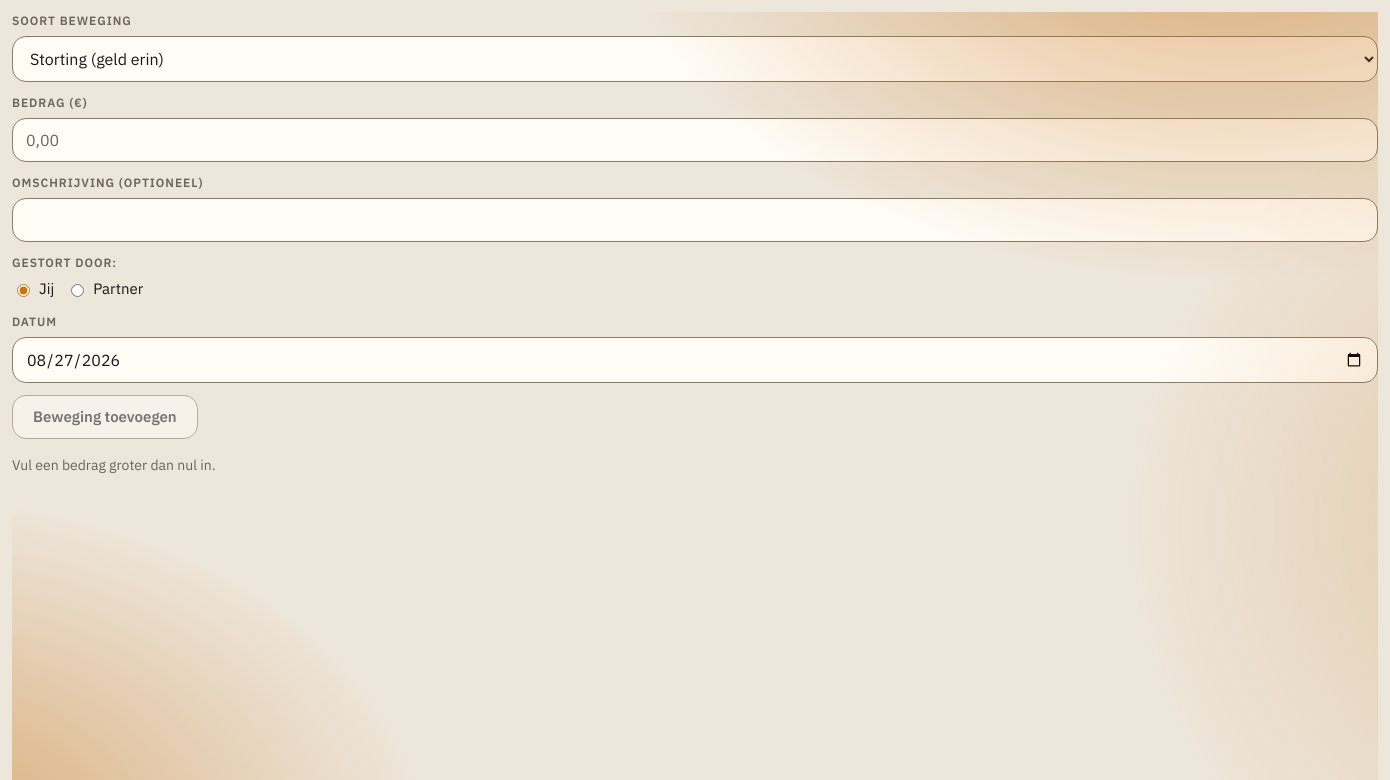
Scenario: KindrekeningpostFormulier › toont de kiezer enkel bij een uitgave, en zonder gearchiveerde gezinsleden
The width and height of the screenshot is (1390, 780).
Expected: the text "Voor wie? (optioneel)" is not shown
Select "Uitgave (geld eruit)" in the dropdown labelled "Soort beweging": (695, 59) [12,36,1378,82]
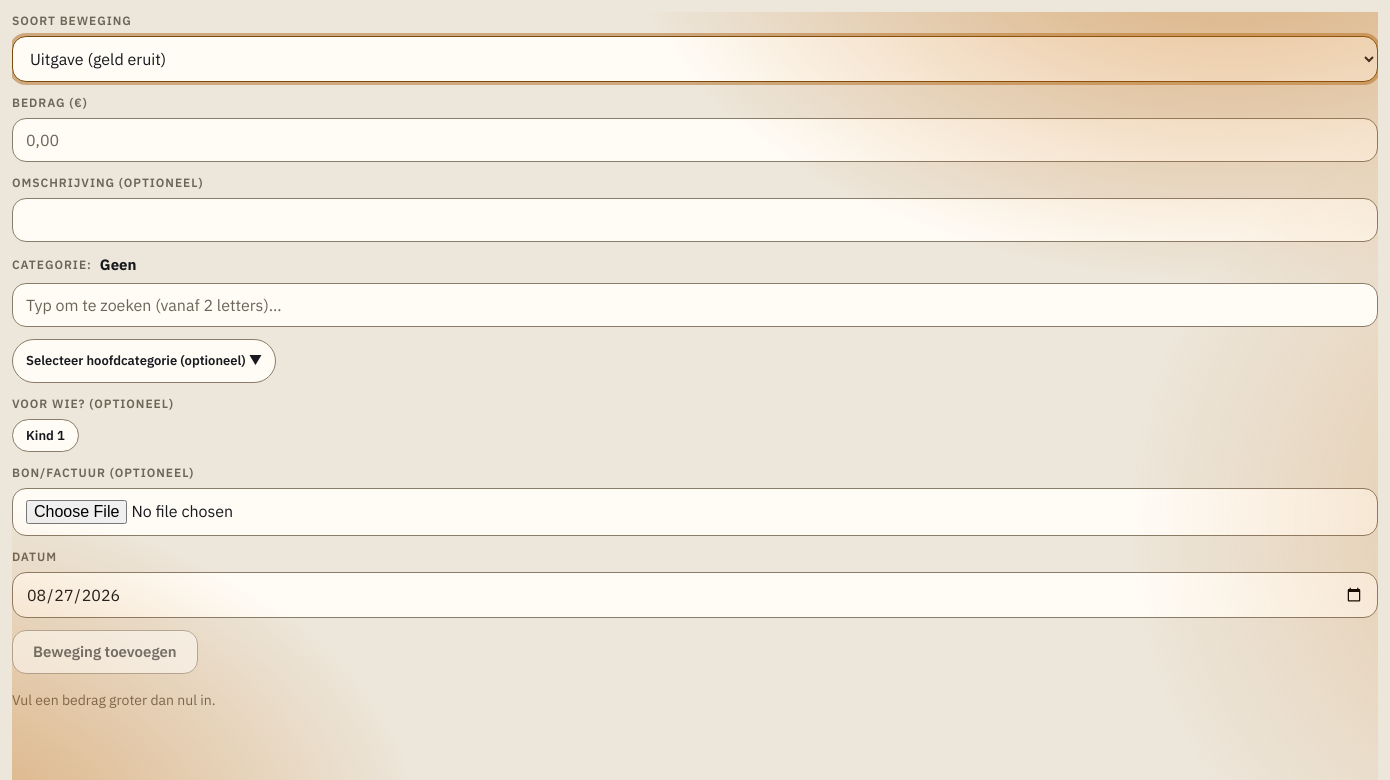
Expected: the text "Voor wie? (optioneel)" is shown, [12,396,174,410]
Expected: the button named "Kind 1 (kindrekening)" is shown, [12,418,79,452]
